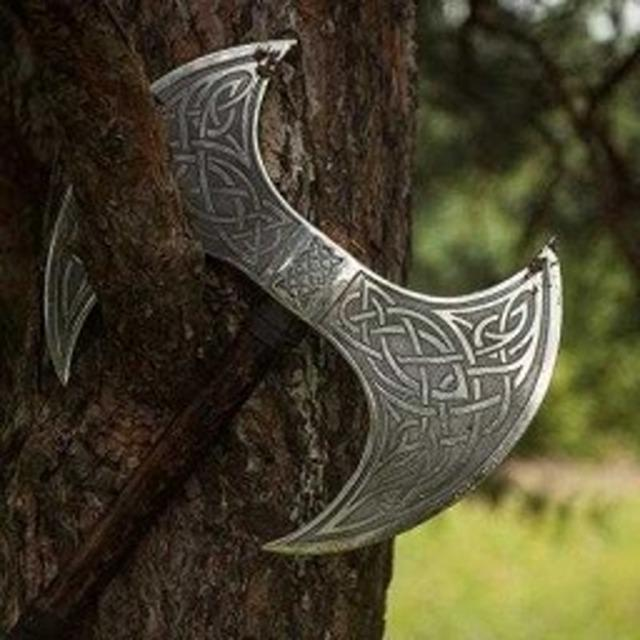ax: (5, 27, 580, 640)
